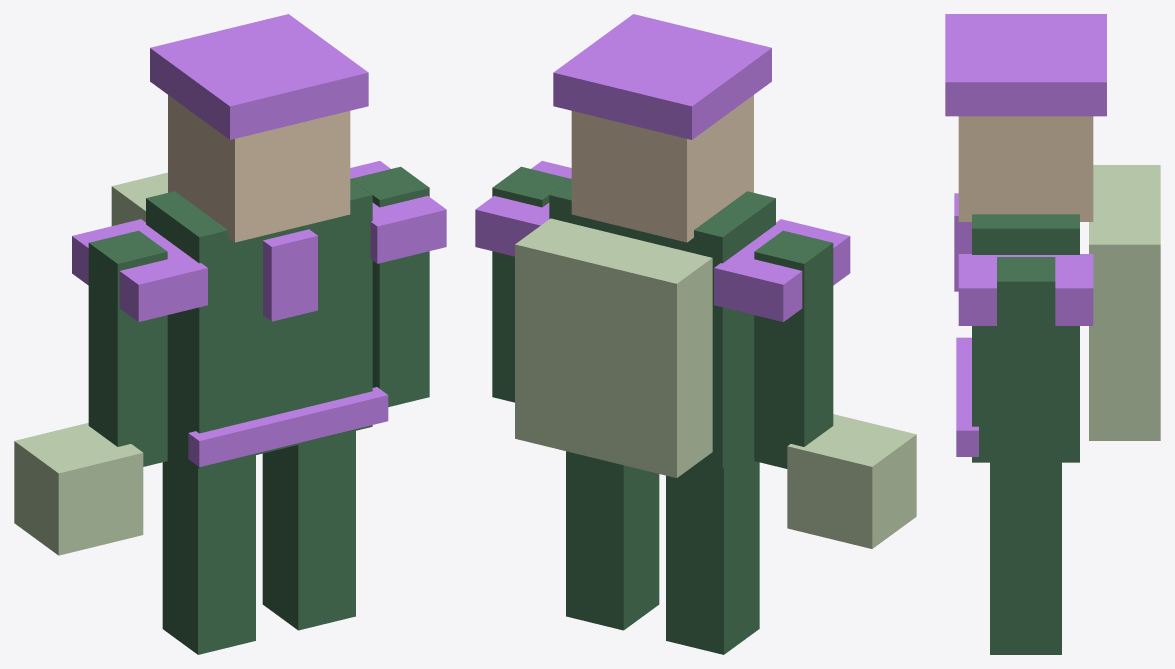
The model's file is 13_sable_whispercoil_courier_of.glb.
3 views of the same model, side by side, from view 1: azimuth 30°, elevation 25°; view 2: azimuth 150°, elevation 25°; view 3: azimuth 270°, elevation 25° (orthographic).
Parts seen in each view (by area): view 1: Sable Whispercoil, Courier of; view 2: Sable Whispercoil, Courier of; view 3: Sable Whispercoil, Courier of.
Boxes of the visible parts, box(x1,y1,x2,y2) form: Sable Whispercoil, Courier of: box(14, 14, 446, 654); Sable Whispercoil, Courier of: box(475, 14, 916, 654); Sable Whispercoil, Courier of: box(945, 14, 1160, 654).
Size of the model in its own units: 1.09 by 1.53 by 0.5258.
